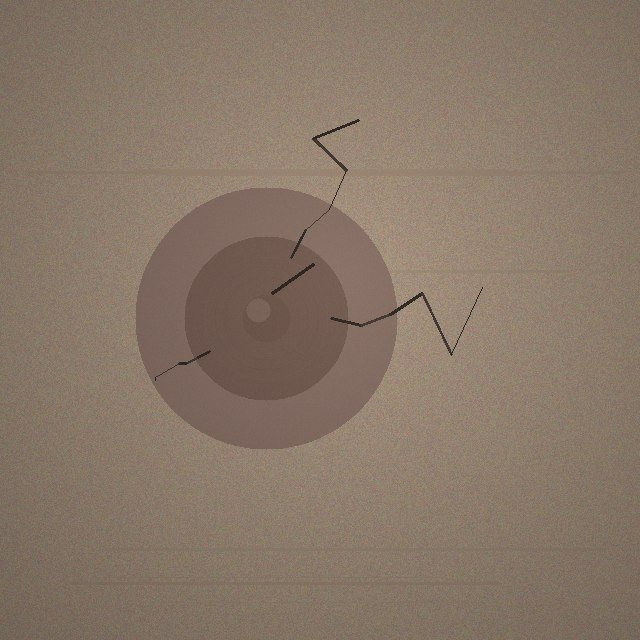crack: (135, 187, 397, 449)
